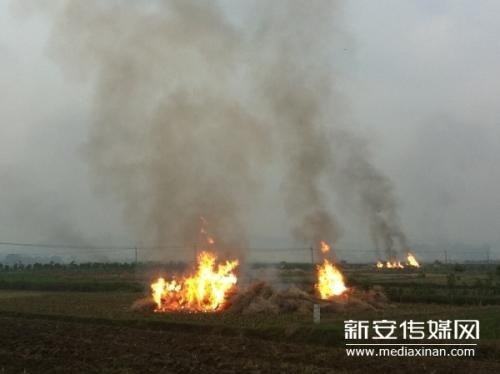fire: (147, 245, 243, 313), (314, 240, 348, 299), (374, 248, 423, 269)
